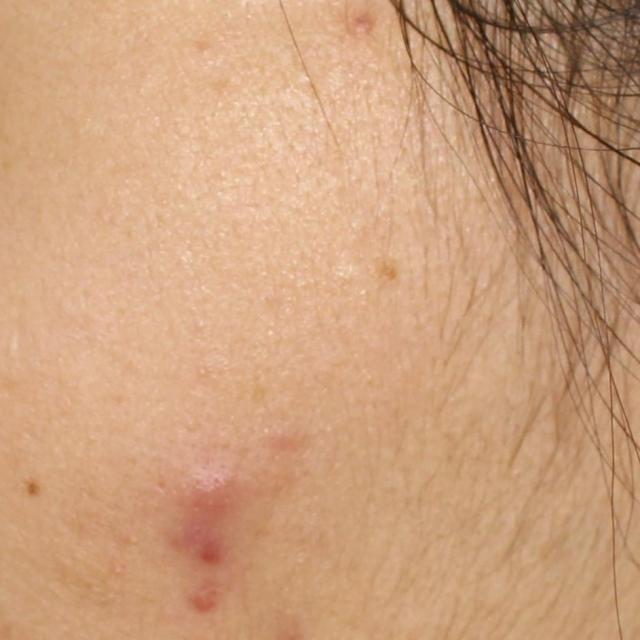blackhead: (28, 484, 36, 494)
nodule: (184, 471, 238, 523)
